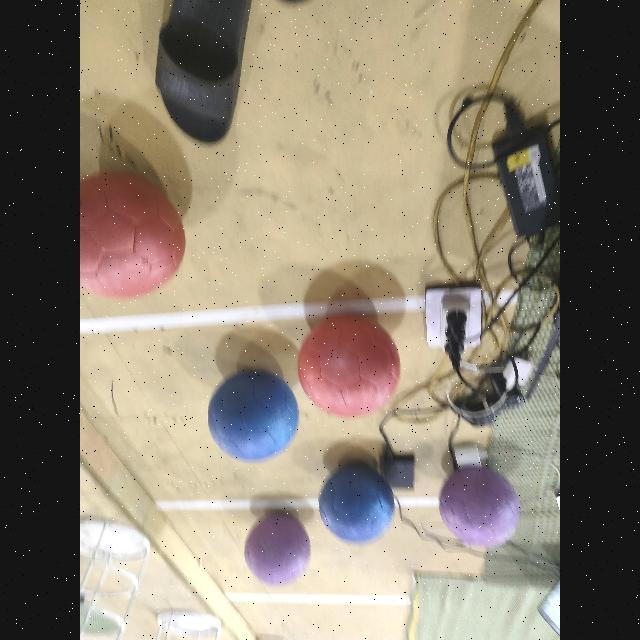B: (208, 371, 298, 461), (320, 465, 394, 543)
P: (440, 467, 520, 547), (245, 514, 311, 586)
R: (80, 173, 186, 299), (298, 316, 400, 418)
